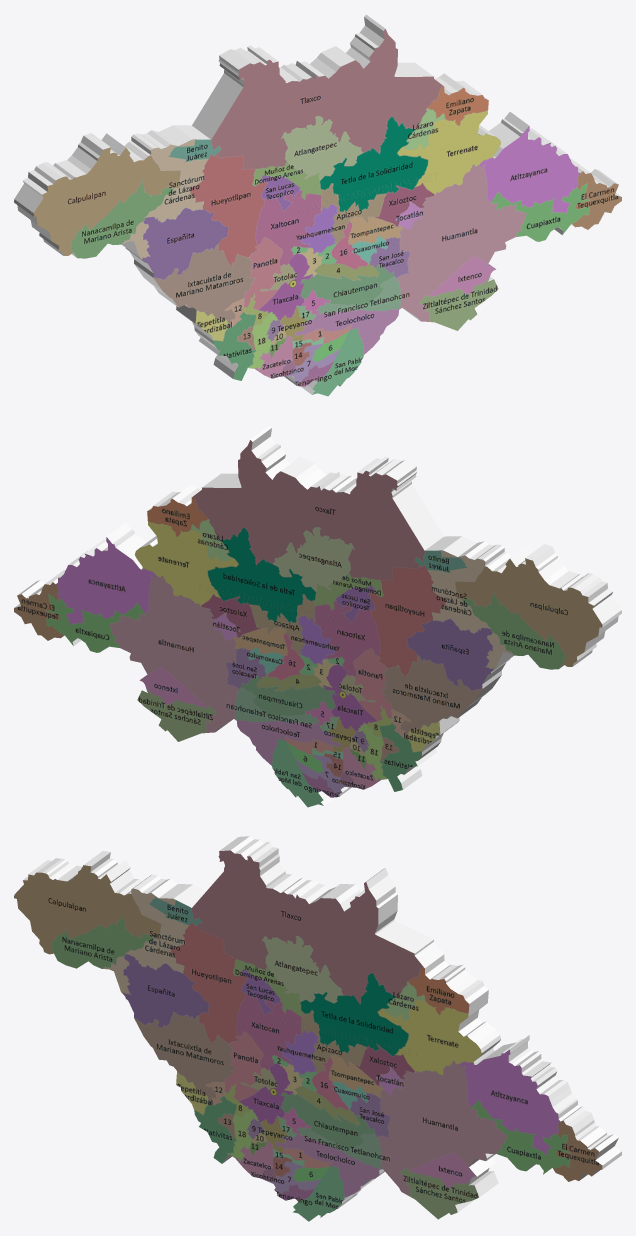
The model's file is tlaxcala.glb.
The picture shows the model from 3 angles, top to bottom: view 1: azimuth 30°, elevation 25°; view 2: azimuth 150°, elevation 25°; view 3: azimuth 330°, elevation 25°; orthographic projection.
Visible parts, largest first — view 1: Plano; view 2: Plano; view 3: Plano.
Boxes of the visible parts, box(x1,y1,x2,y2) form: Plano: box(14, 14, 621, 396); Plano: box(14, 425, 621, 807); Plano: box(14, 836, 621, 1221).
Size of the model in its own units: 1.18 by 0.6789 by 0.0678.
1 material, 1 textured.
